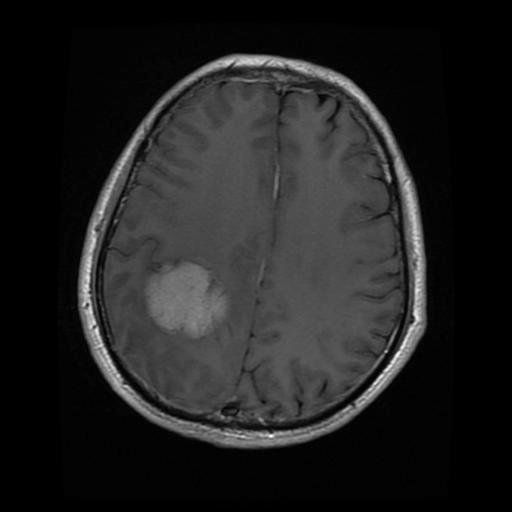Tumour-Meningioma: (132, 236, 248, 354)
